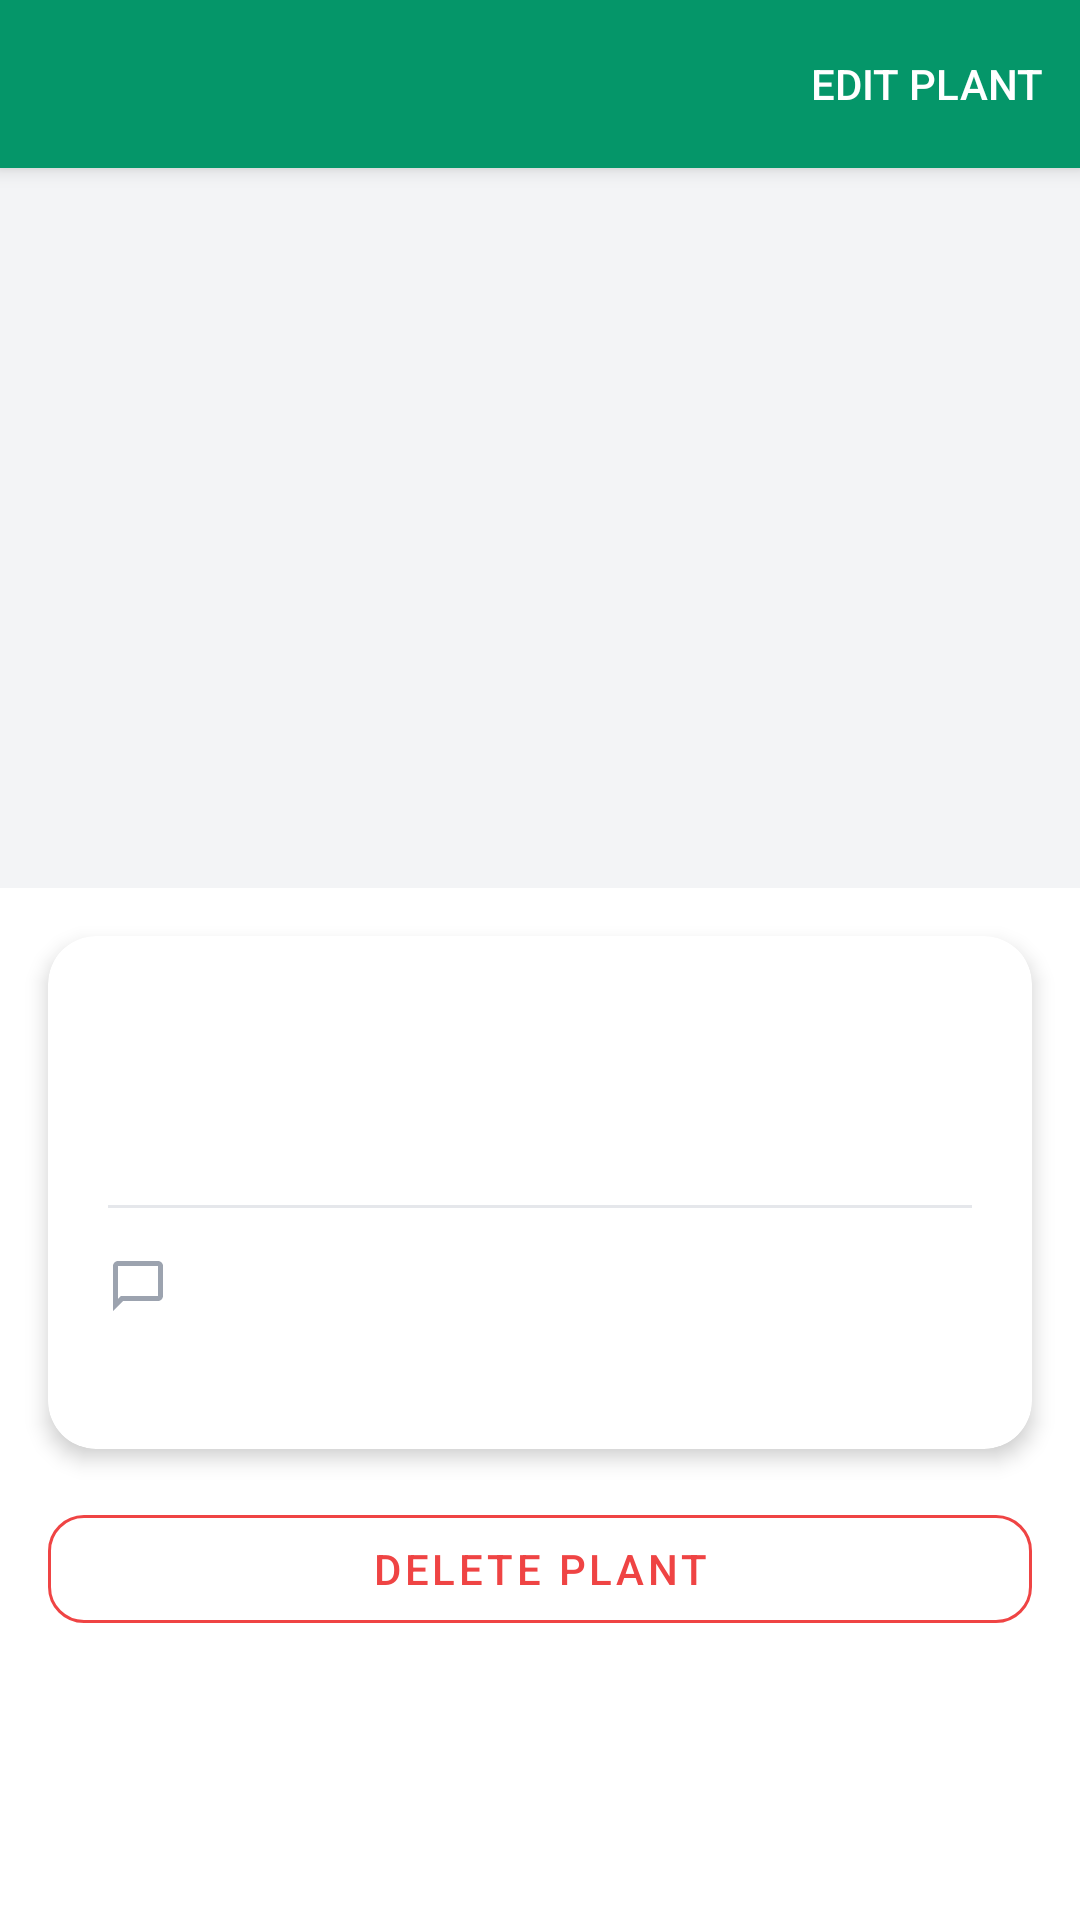

Where to tap for icons on this 1080 × 1920 app screen, as (x=x, y=y):
post count: (x=138, y=1286)
